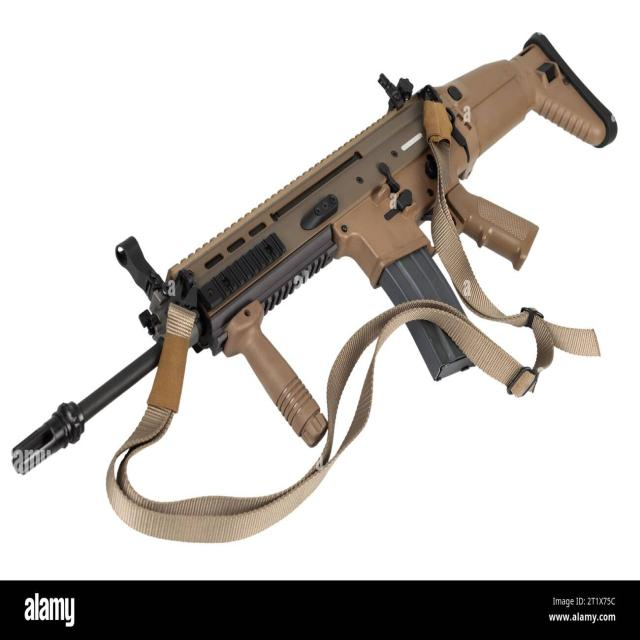Gun: (12, 5, 640, 545)
